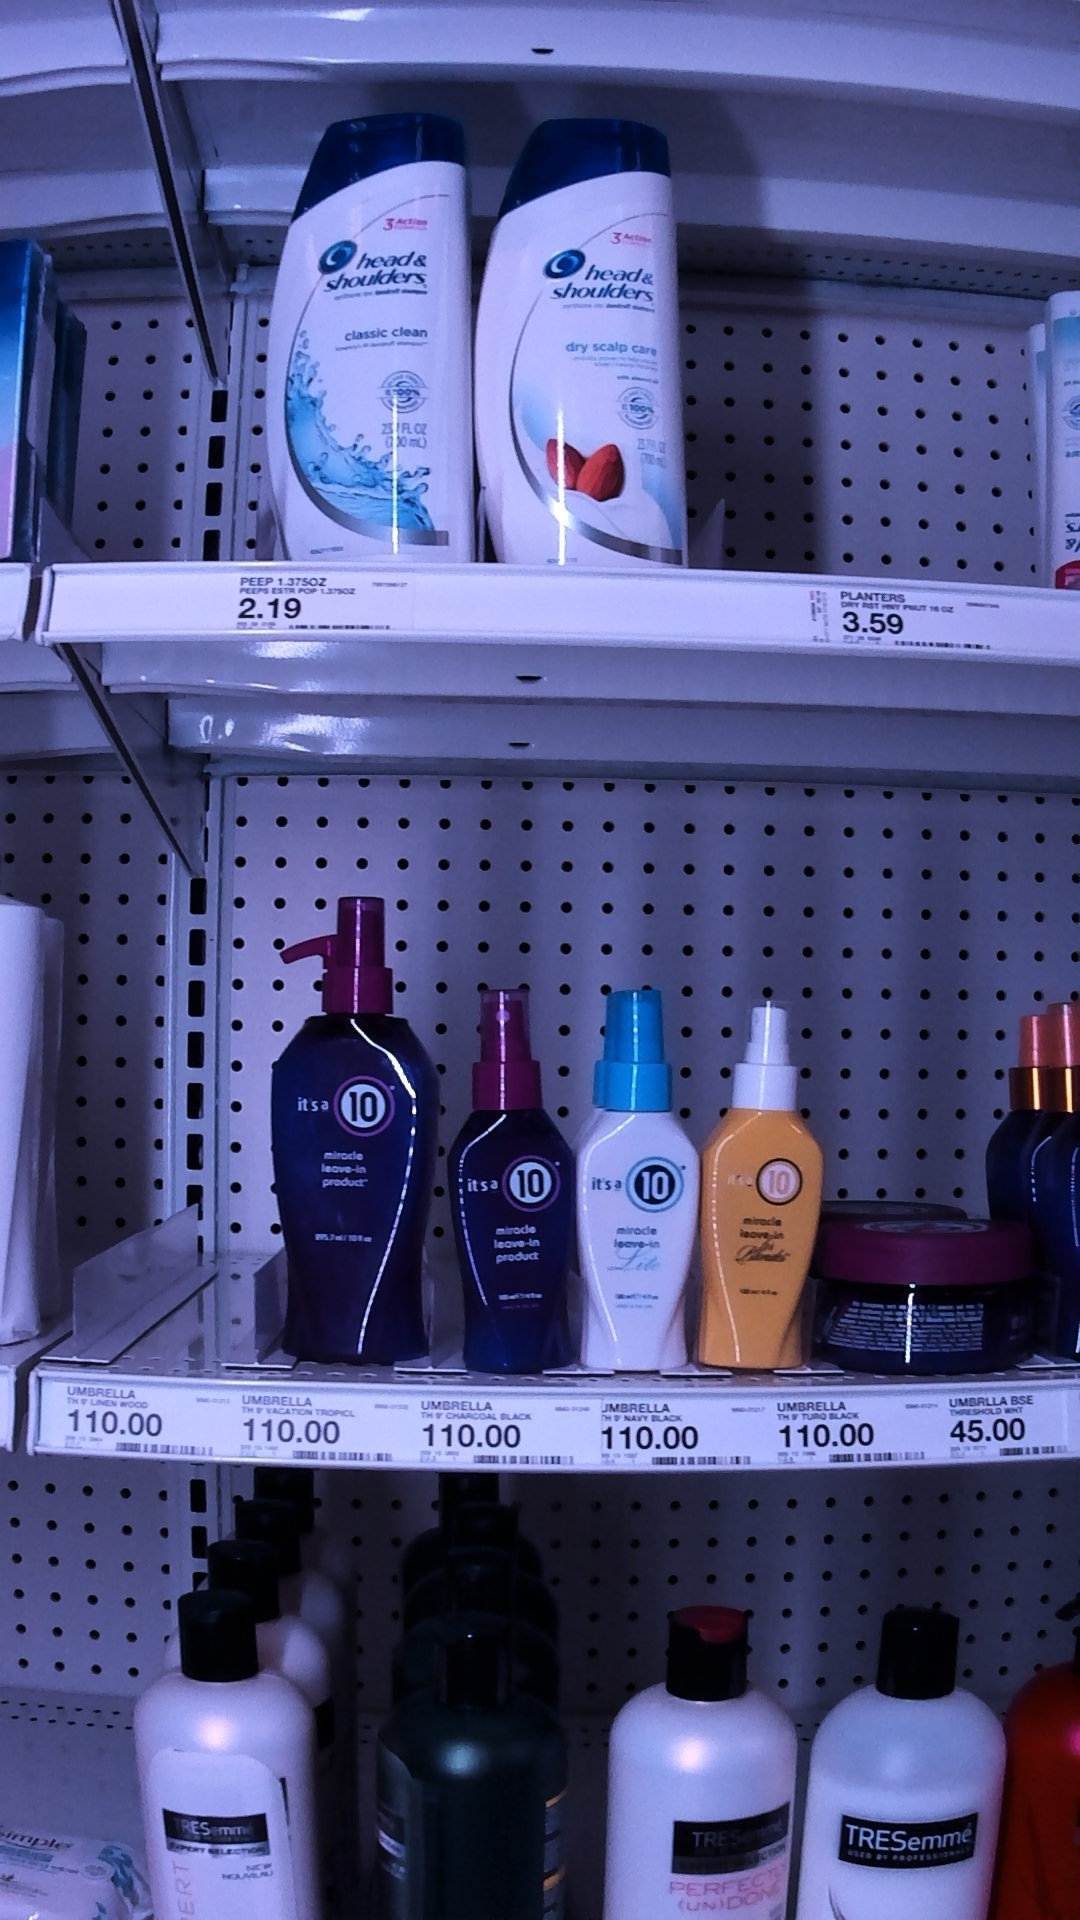ptag: (802, 568, 1006, 659), (32, 1371, 208, 1464), (220, 556, 409, 640), (415, 1382, 571, 1480), (235, 1379, 389, 1476), (595, 1391, 758, 1480), (778, 1389, 931, 1473), (942, 1385, 1071, 1473)
